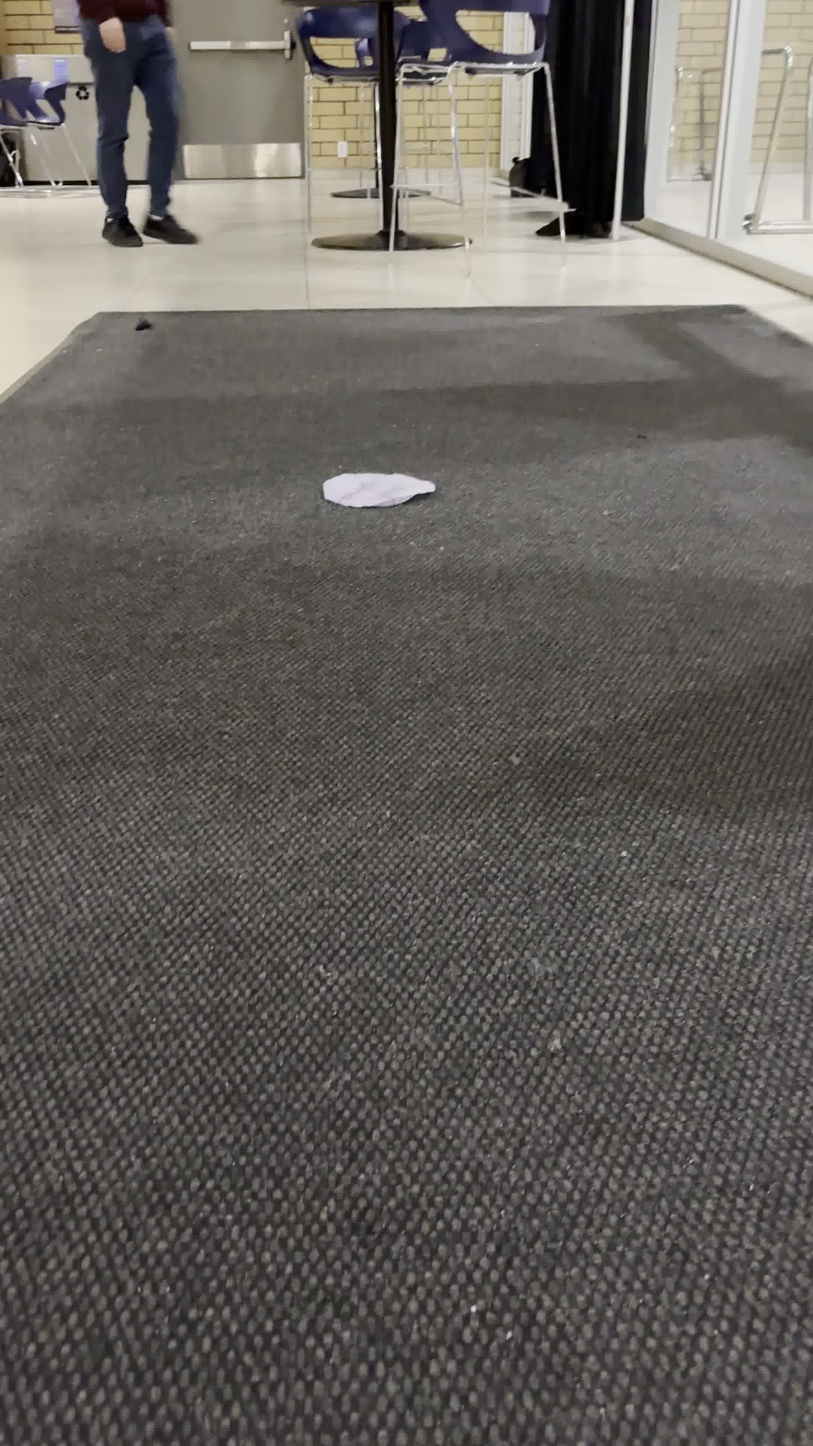Target: (319, 468, 439, 513)
